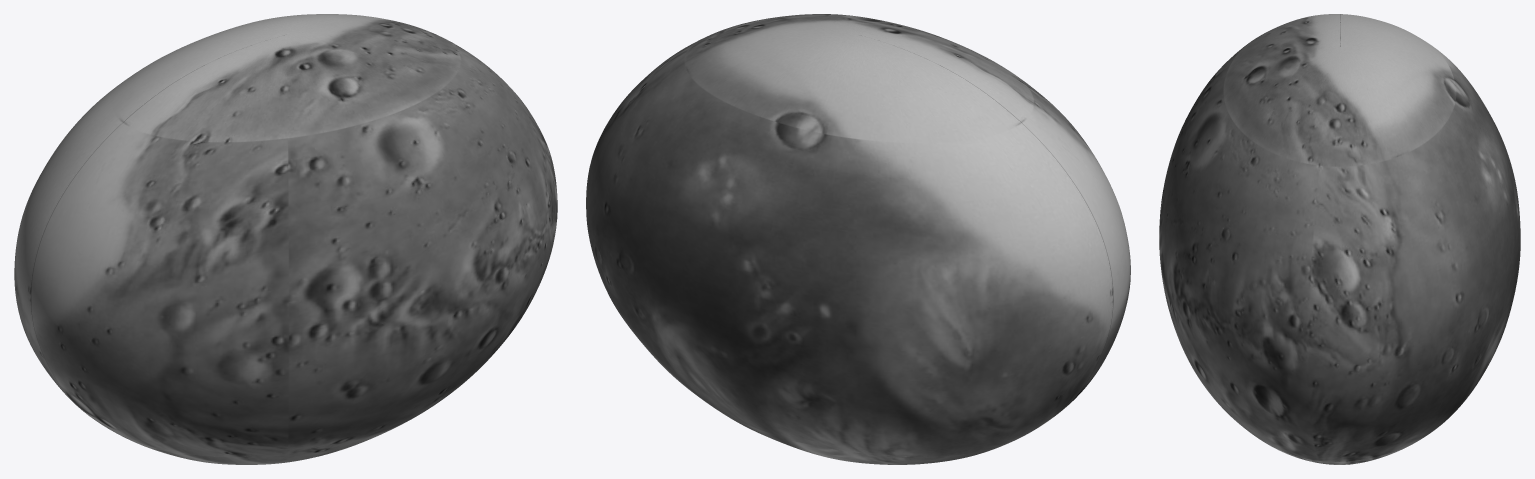
Rendered from deimos.glb.
3 views of the same model, side by side, from view 1: azimuth 30°, elevation 25°; view 2: azimuth 150°, elevation 25°; view 3: azimuth 270°, elevation 25° (orthographic). The views are drawn at different scales.
Parts seen in each view (by area): view 1: Deimos_Asset; view 2: Deimos_Asset; view 3: Deimos_Asset.
Boxes of the visible parts, x1,y1,x2,y2 form: Deimos_Asset: [14, 14, 557, 464]; Deimos_Asset: [586, 14, 1130, 464]; Deimos_Asset: [1159, 14, 1520, 464].
Bounding box in the file's own units: 0.3135 × 0.24 × 0.2038.
Materials: 1 (1 with a texture image).
